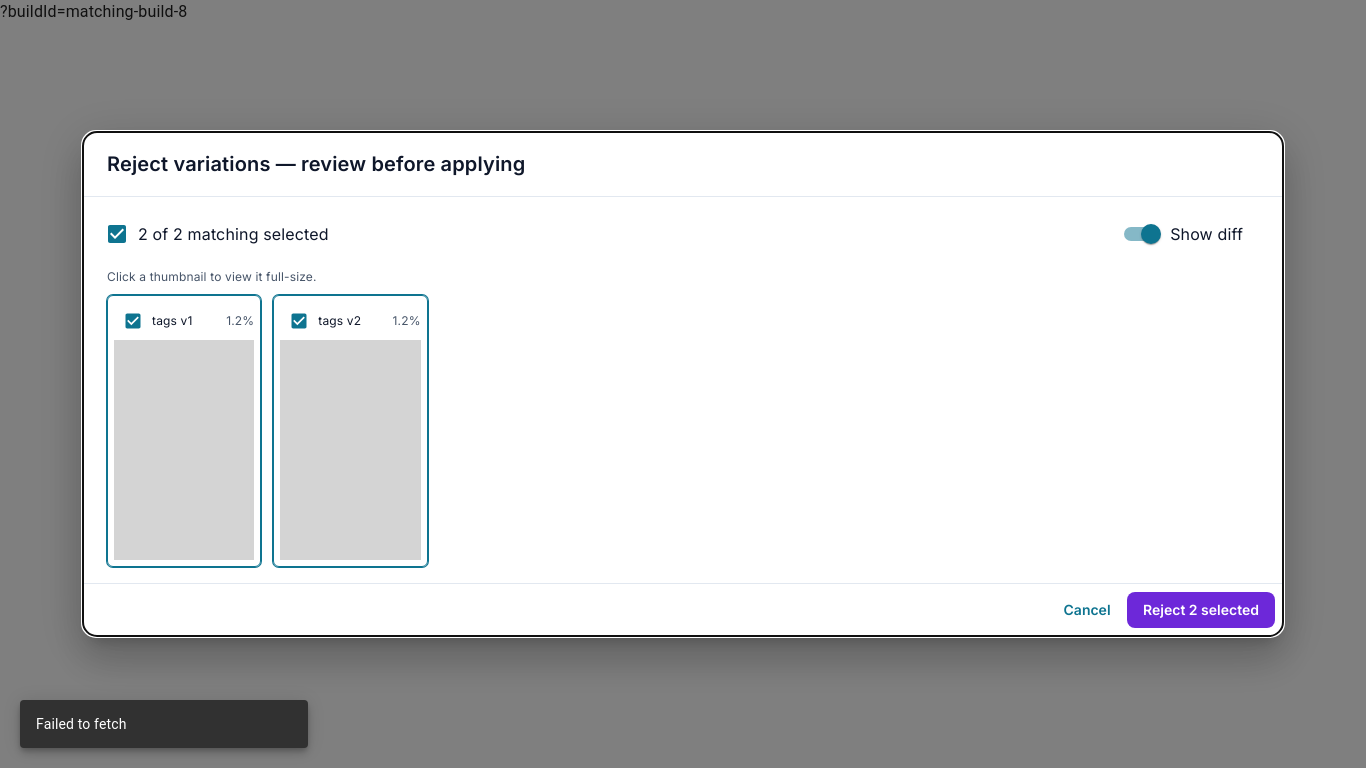
MatchingVariationsDialog › submitting › tells the user how many were rejected when some failed
The width and height of the screenshot is (1366, 768).
Expected: the text "Click a thumbnail to view it full-size." is shown, [107, 269, 317, 284]
Click the button "Reject 2 selected" at (1201, 610), box [1127, 592, 1275, 628]
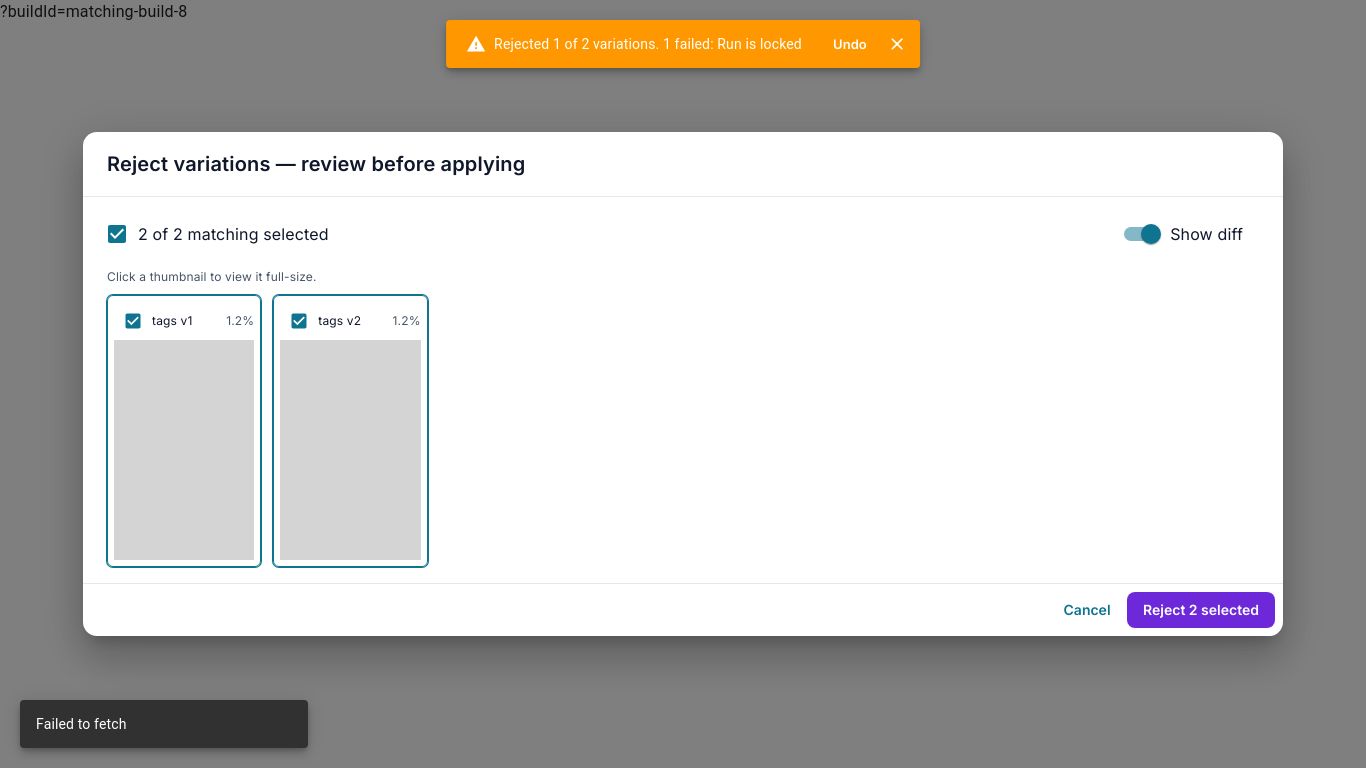
Result: the text "Rejected 1 of 2 variations. 1 failed: Run is locked" is shown at [466, 34, 802, 54]
